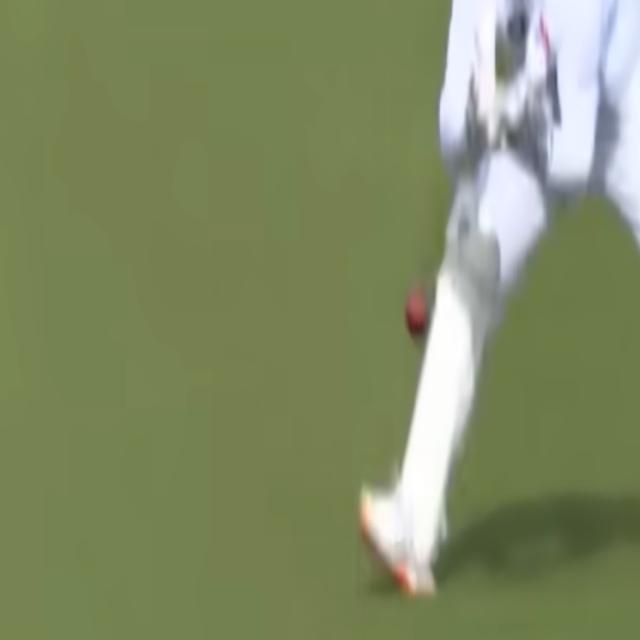ball: (400, 285, 433, 346)
